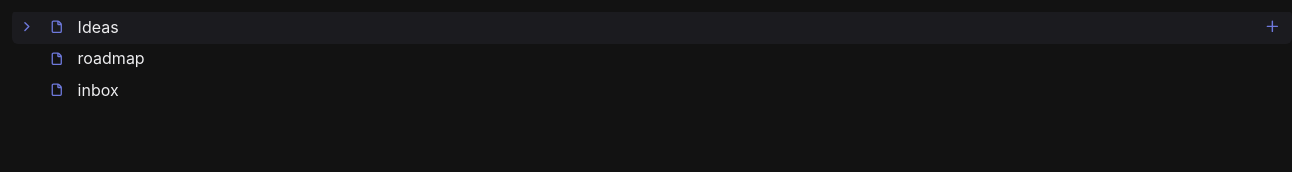
Test: a row context menu › reveals a note by its absolute path
Right-click the button "roadmap".
right_click(111, 58)  # box [12,44,1257,73]
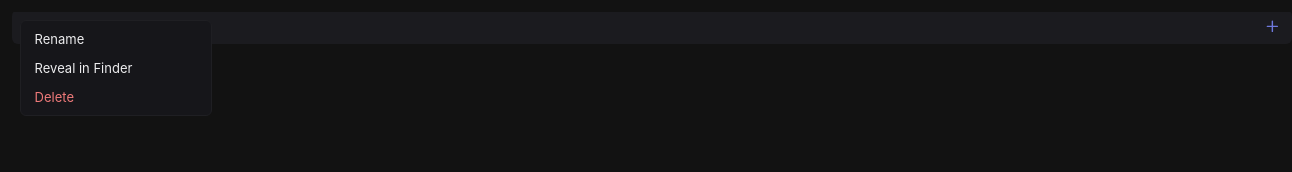
Click the button "Reveal in Finder".
click(116, 68)  # box [25,54,207,83]
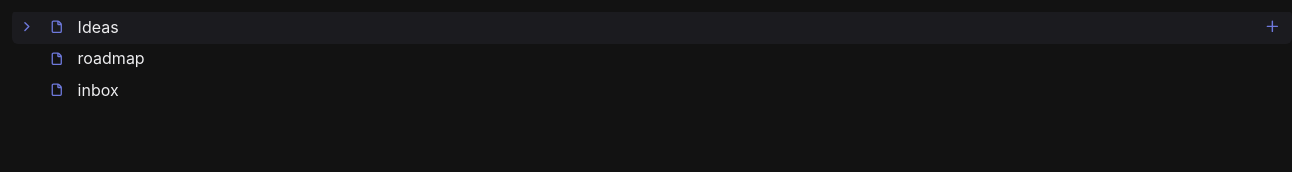
Check: no elements with class "context-menu" are shown
